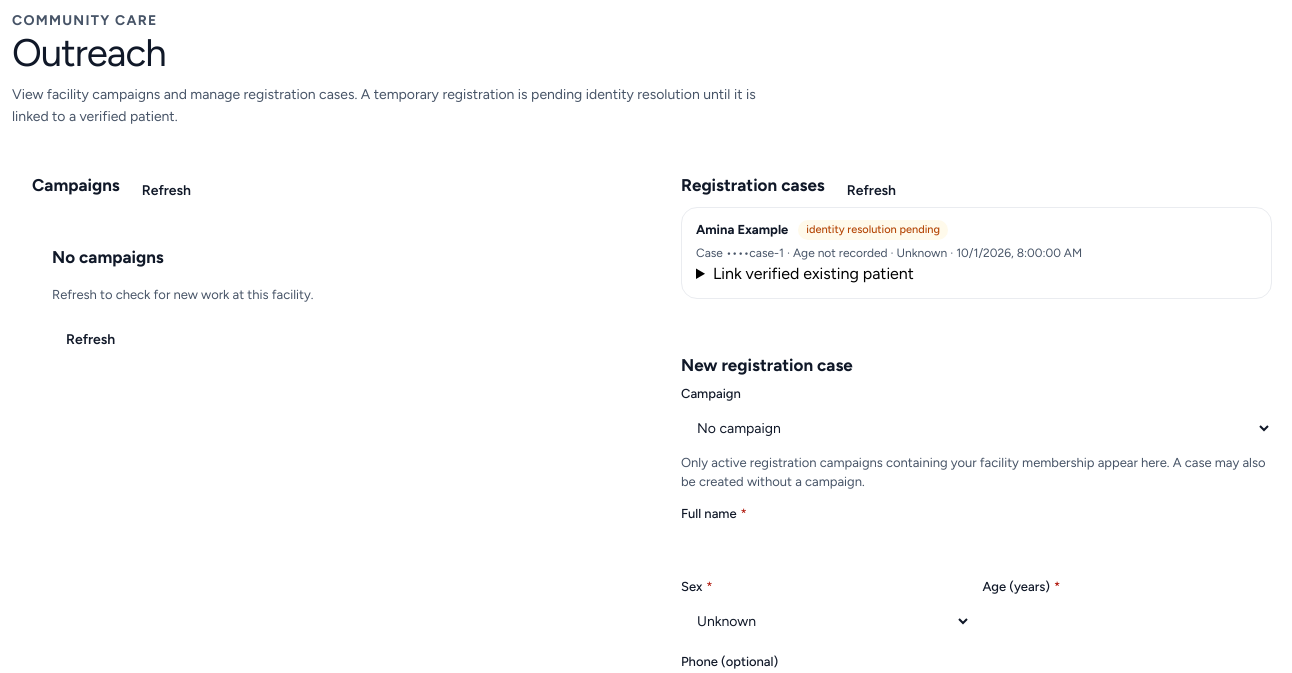
Test case: outreach › a link refusal, refused from within the refused field, is an alert there
Click the heading "Link verified existing patient" at [813, 273], box [713,264,914,283]
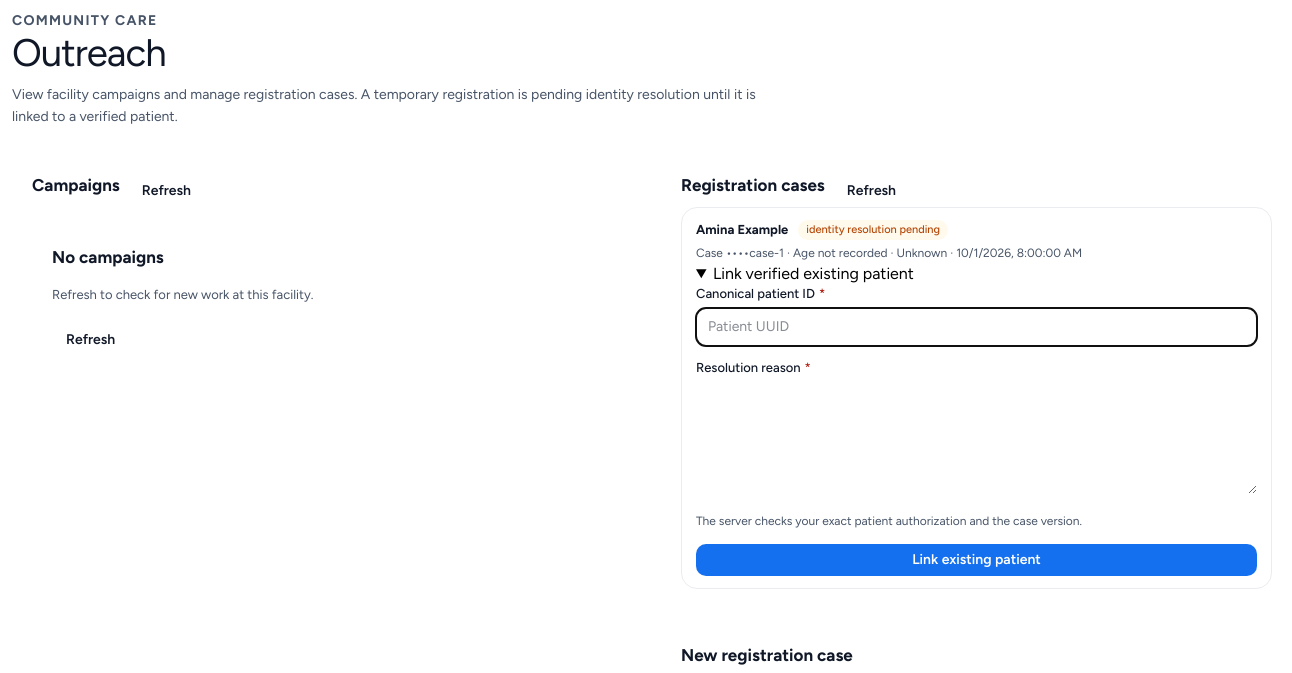
Submit the form labelled "Canonical patient ID", box [696,286,1257,576]
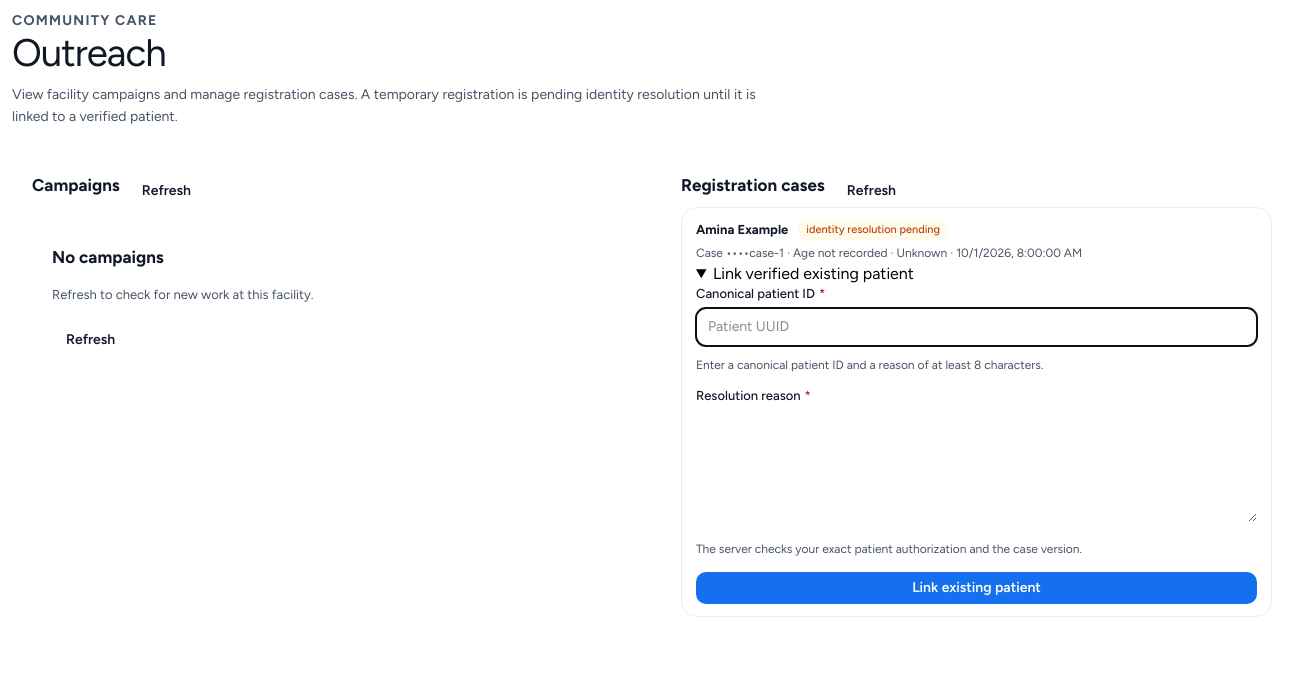
Expected: the message reads "Enter a canonical patient ID and a reason of at least 8 characters.", [696,358,1043,372]
